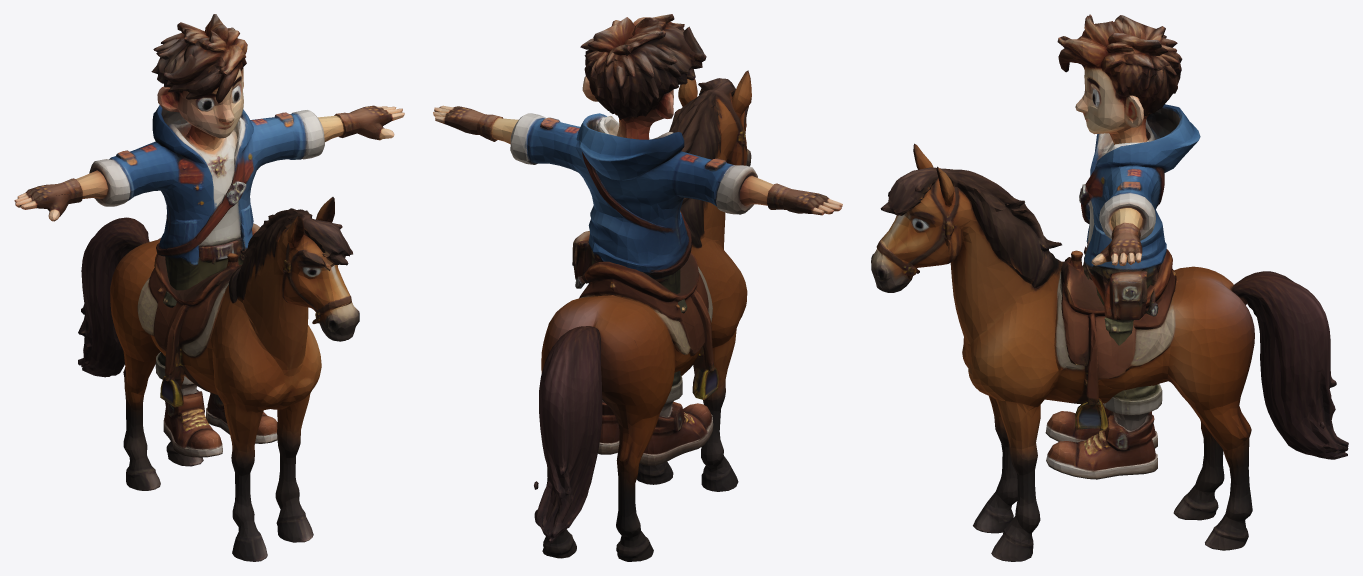
3 renders of one model, left to right at view 1: azimuth 30°, elevation 25°; view 2: azimuth 150°, elevation 25°; view 3: azimuth 270°, elevation 25°, orthographic. The views are drawn at different scales.
Parts seen in each view (by area): view 1: world.005, world.004; view 2: world.005, world.004; view 3: world.005, world.004.
Boxes of the visible parts, bbox=[...] form: world.005: bbox=[78, 197, 359, 561]; world.004: bbox=[14, 14, 404, 457]; world.005: bbox=[534, 70, 751, 561]; world.004: bbox=[433, 14, 842, 465]; world.005: bbox=[871, 143, 1348, 561]; world.004: bbox=[1045, 14, 1200, 479].
Size of the model in its own units: 0.8442 by 1 by 0.8438.
Materials: 2 (2 with a texture image).
